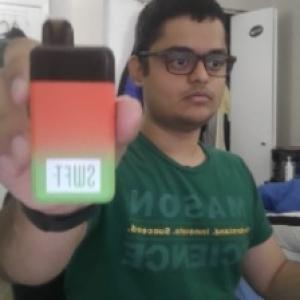Swift-E-Ciggirate: (28, 18, 122, 209)
